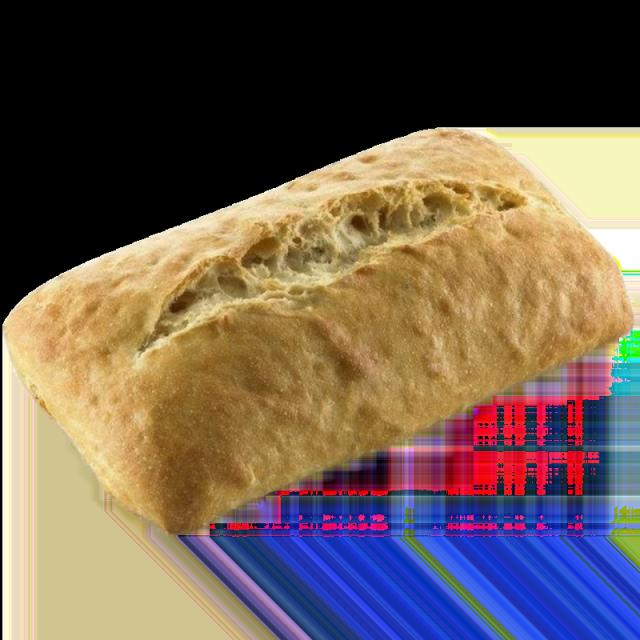Ciabatta: (5, 129, 630, 534)
